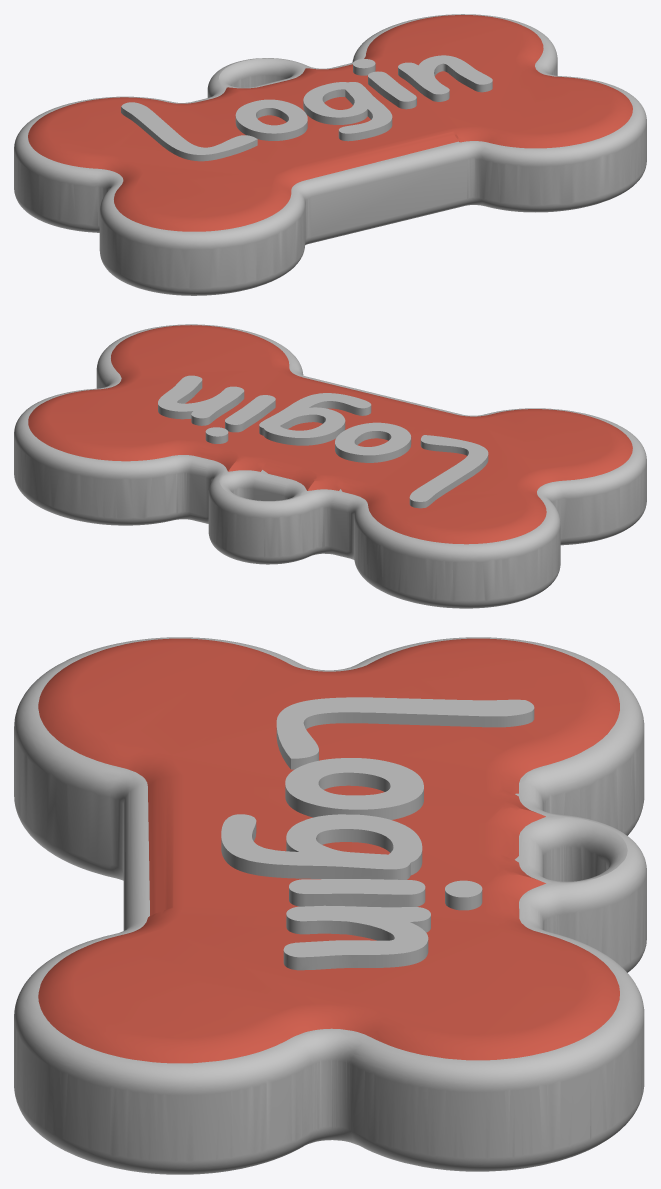
Rendered from Bone_login2.glb.
3 renders of one model, top to bottom at view 1: azimuth 30°, elevation 25°; view 2: azimuth 150°, elevation 25°; view 3: azimuth 270°, elevation 25°, orthographic. The views are drawn at different scales.
Bounding box in the file's own units: 0.0438 × 0.0061 × 0.0264.
